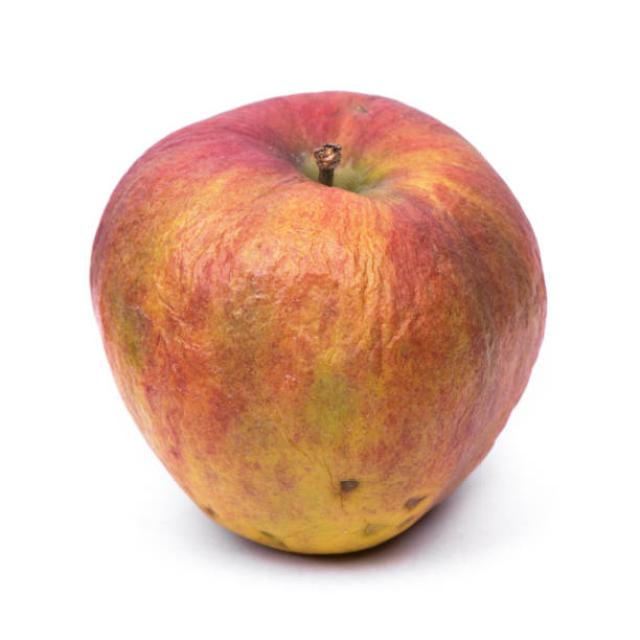overripe: (84, 80, 554, 558)
